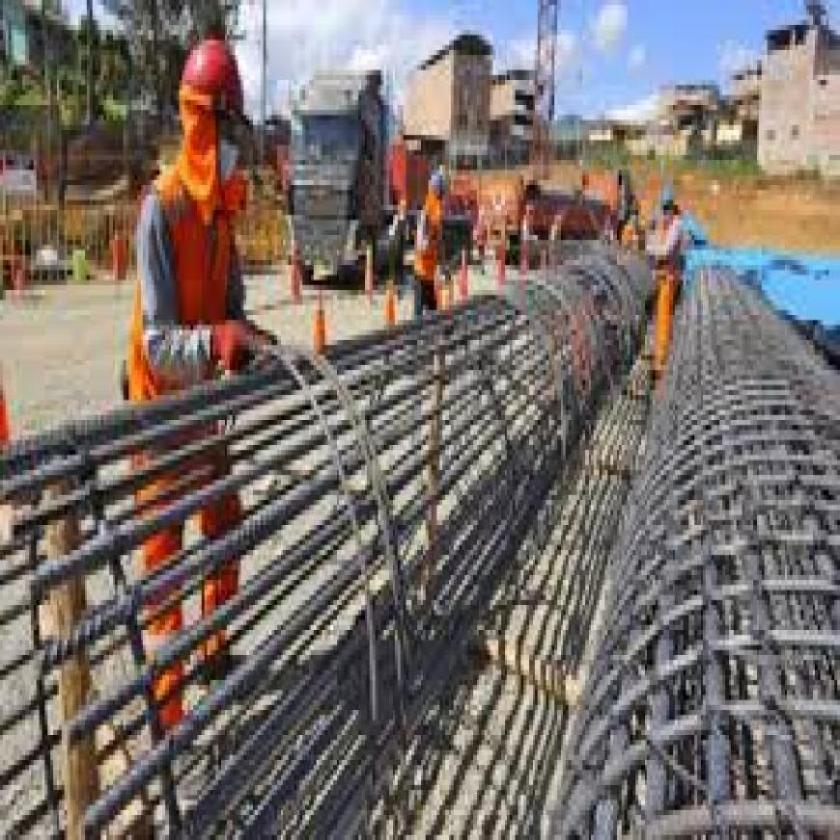Con_casco: (177, 37, 248, 194)
